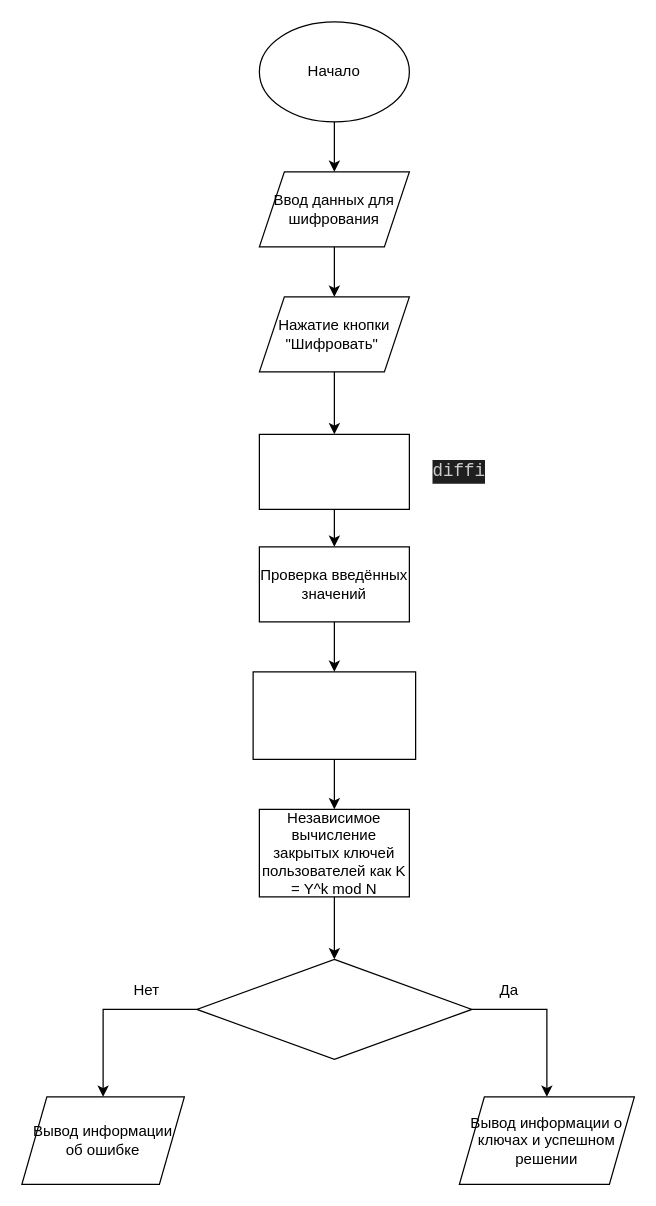
Image size: 656x1206. Some labels were removed from this diagram. Here are the shapes that lost their labels. From the top down, the box of each, then its label:
(258, 433, 409, 509): Вызываем функцию шифрования
(252, 671, 416, 759): Вычисление открытого ключа для каждого пользователя как Y = a^K mod N
(196, 958, 472, 1059): Закрытые ключи совпали?
